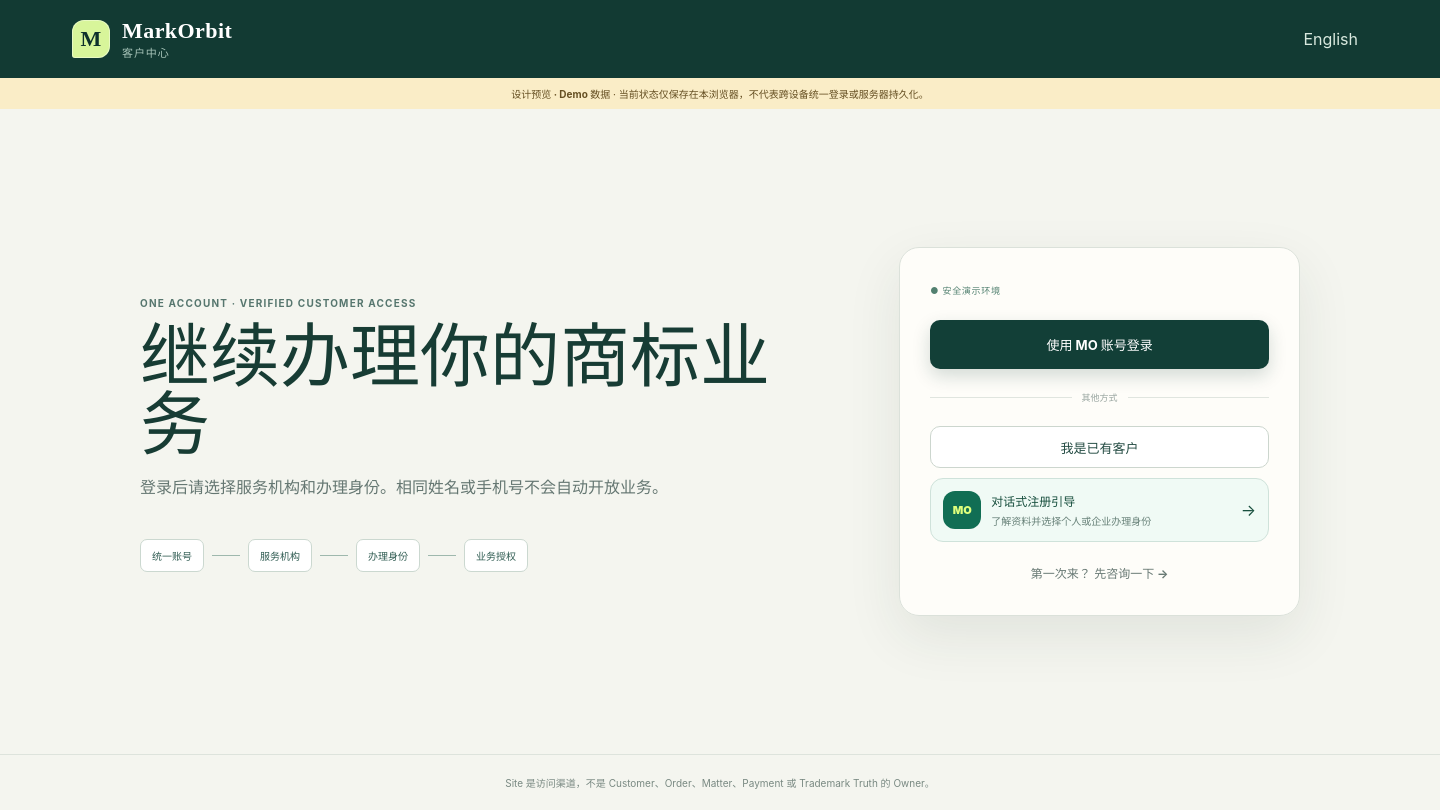
Scenario: Customer Portal V1.2 preview › keeps a visitor consultation as lead-only
Click the button "第一次来？ 先咨询一下 →": click(1100, 572) 930,560 -> 1269,585
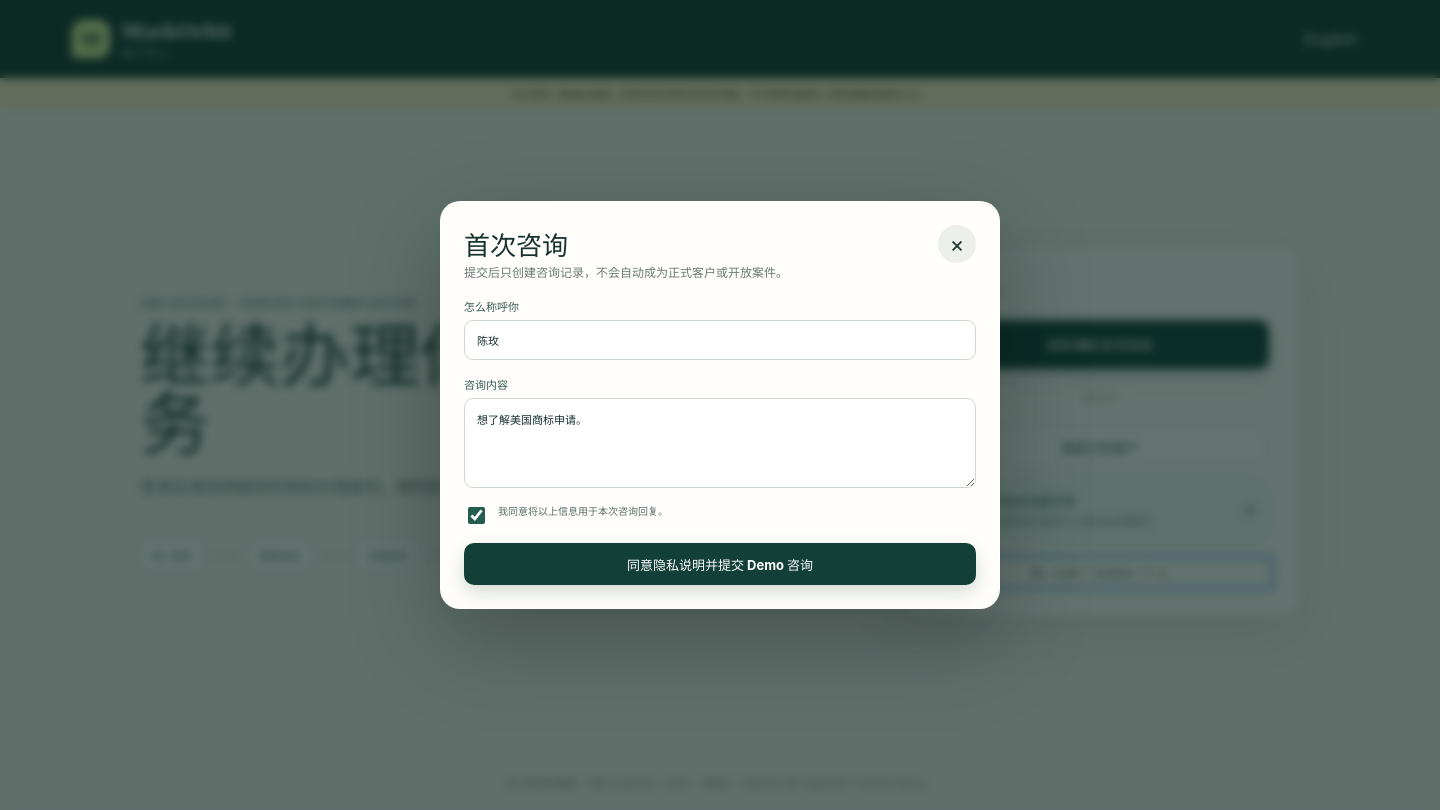
Now the dialog "首次咨询" is shown, box 440,201 -> 1000,609
Click the button "同意隐私说明并提交 Demo 咨询": click(720, 564) 464,543 -> 976,585
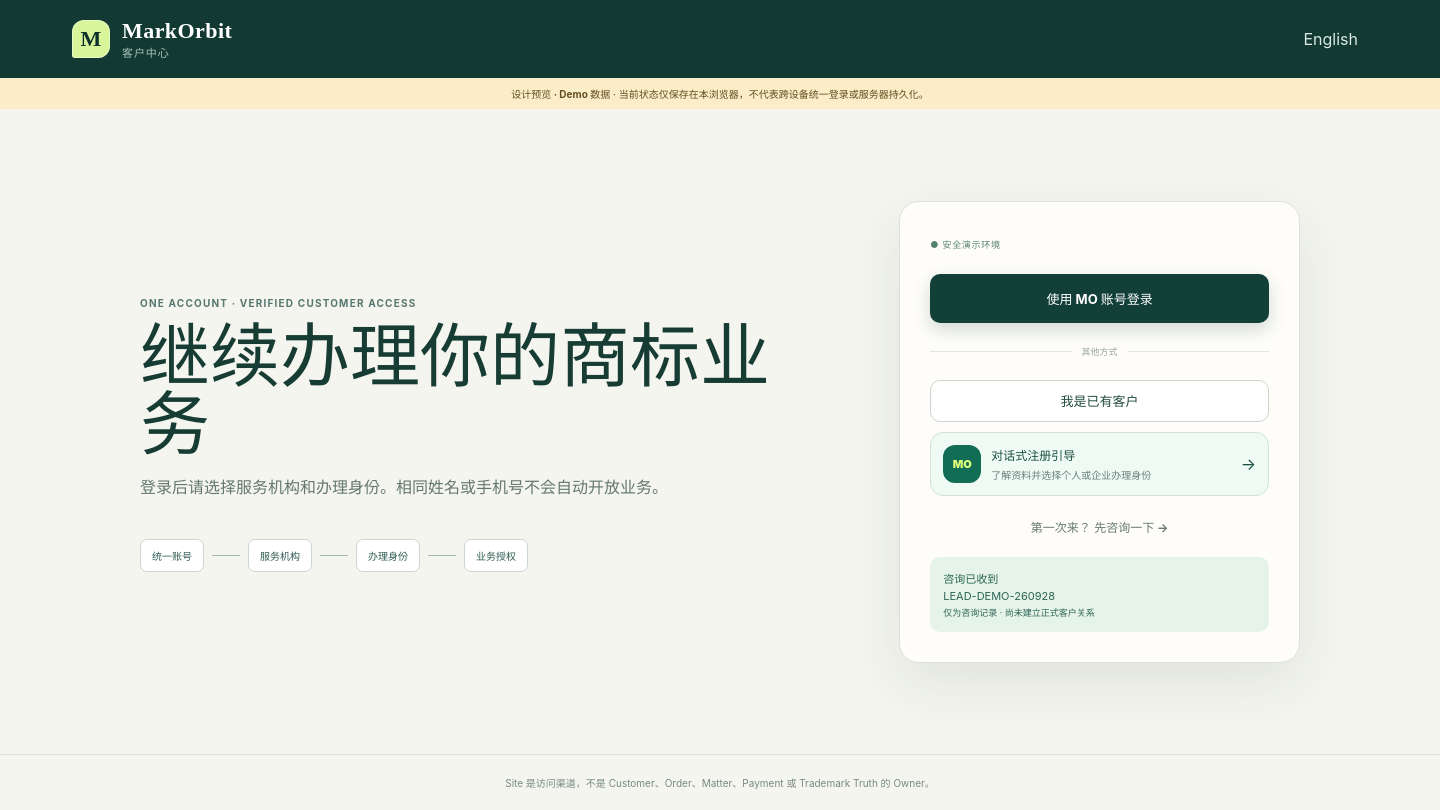
Now the text "仅为咨询记录 · 尚未建立正式客户关系" is shown, box 943,606 -> 1095,618
